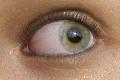eye: (58, 21, 91, 52)
